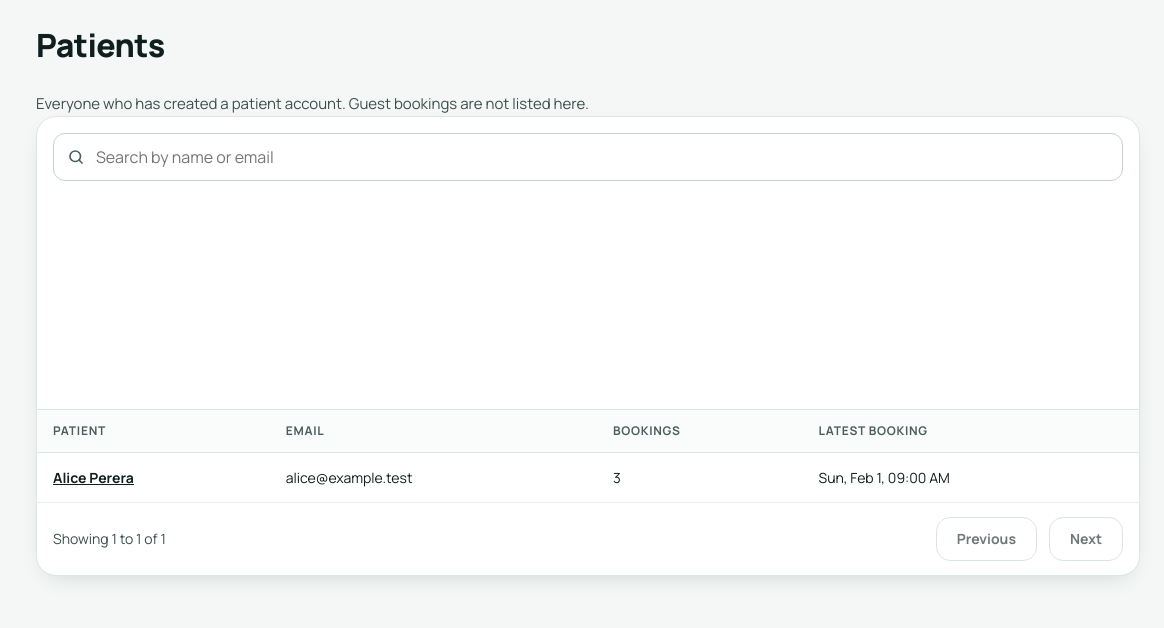
patient list › searches with one request after typing stops, and keeps the search in the URL
Check: the link "Alice Perera" is shown, box [53,468,134,486]
Type "alice" into the search field named "Search patients" at (588, 156), box [53,132,1123,180]
(page scrolled)
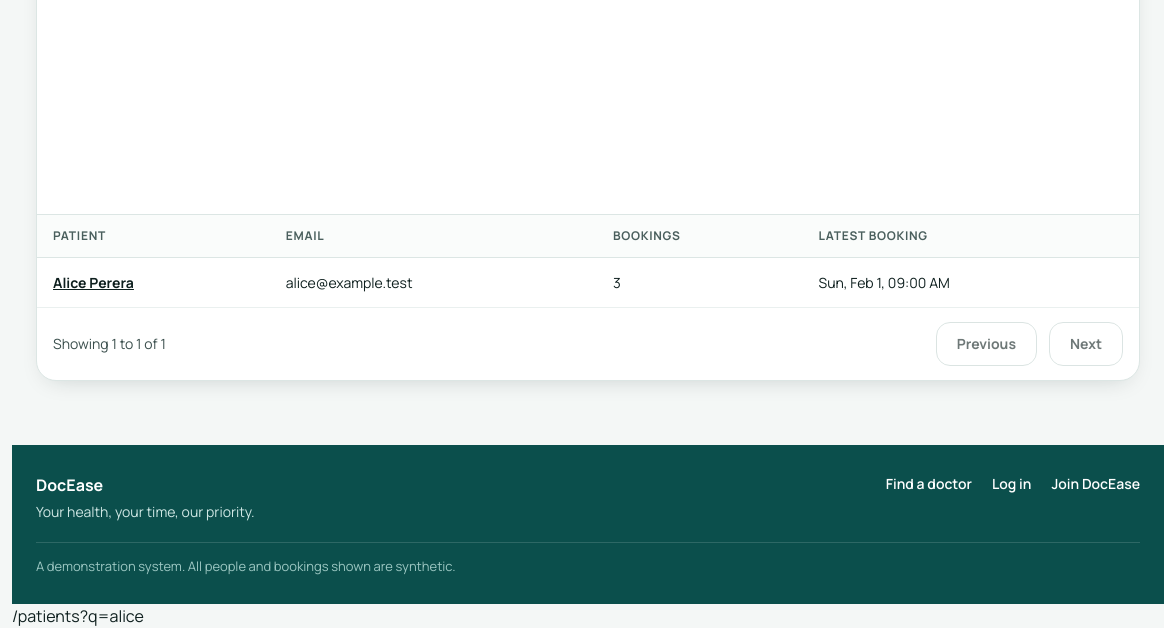
Check: the text with test id "location" reads "/patients?q=alice", box [12,605,144,627]
